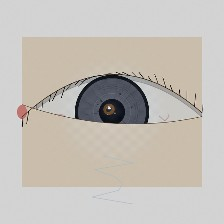foreign_body_visible: (93, 96, 125, 122)
